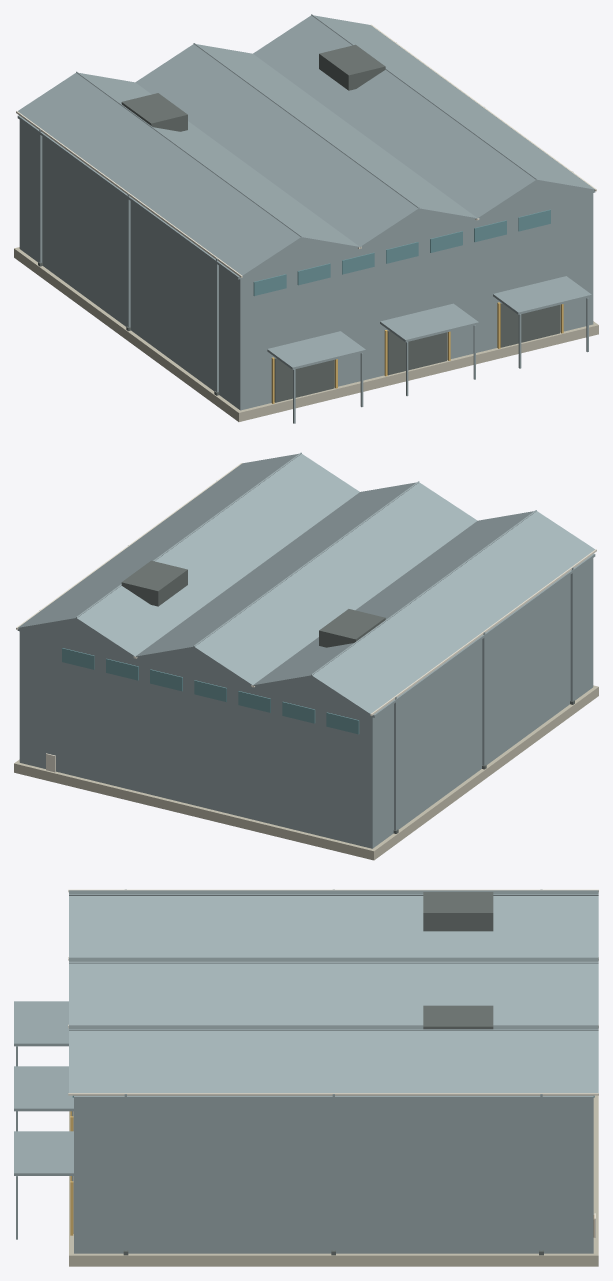
The picture shows the model from 3 angles, top to bottom: view 1: azimuth 30°, elevation 25°; view 2: azimuth 150°, elevation 25°; view 3: azimuth 270°, elevation 25°; orthographic projection. The views are drawn at different scales.
Size of the model in its own units: 49 by 22.5 by 58.55.
